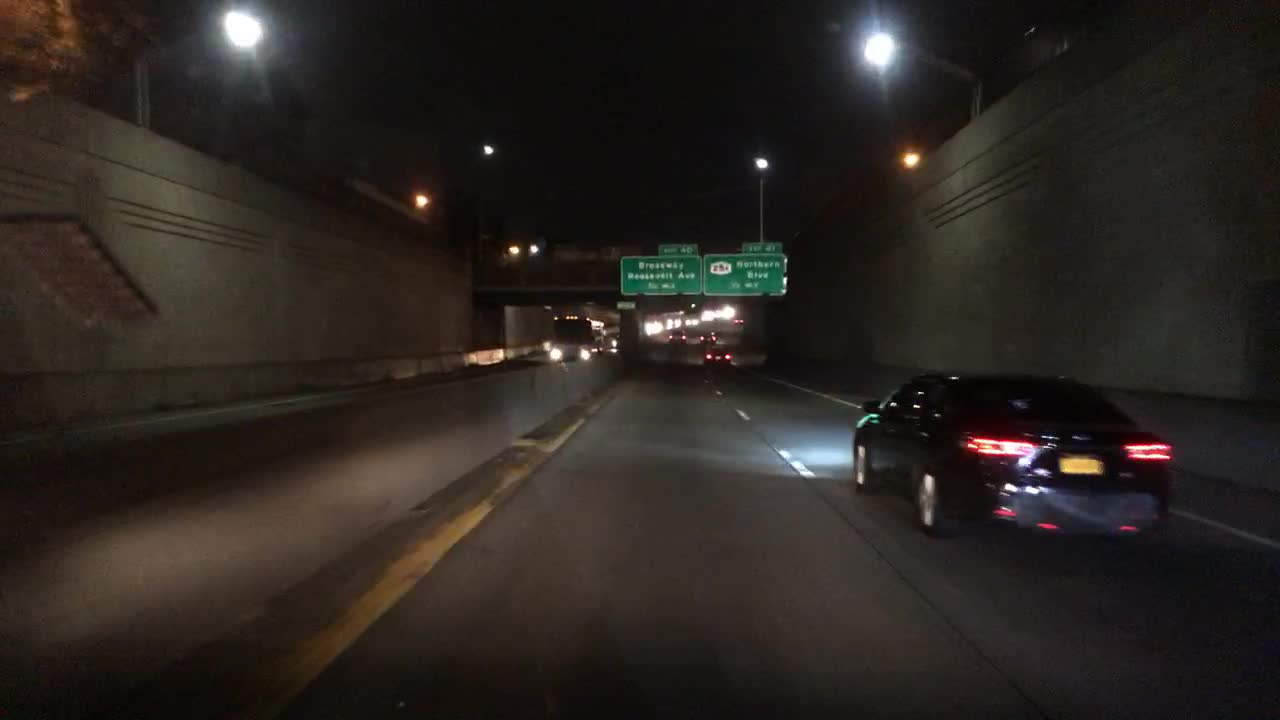car: (848, 366, 1182, 547), (700, 343, 735, 369), (667, 325, 688, 345), (696, 329, 719, 346), (602, 331, 618, 353), (731, 317, 745, 325)
traffic light: (897, 147, 918, 168), (413, 191, 431, 210)
traffic sign: (700, 252, 791, 297), (618, 254, 705, 297), (738, 240, 786, 255), (656, 240, 700, 255), (616, 297, 639, 311)
truck: (544, 313, 611, 366)
